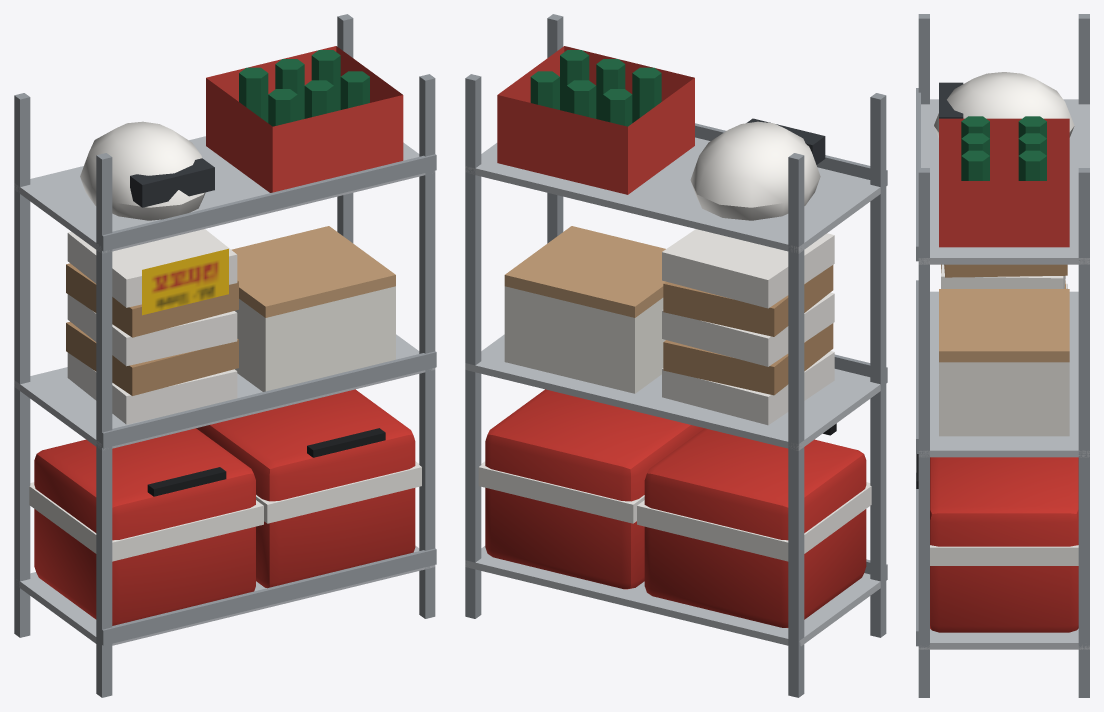
The model's file is SC_Shop_Delivery_Rack.gltf.
The picture shows the model from 3 angles, left to right: view 1: azimuth 30°, elevation 25°; view 2: azimuth 150°, elevation 25°; view 3: azimuth 270°, elevation 25°; orthographic projection. The views are drawn at different scales.
Visible parts, largest first — view 1: SC_Shop_Delivery_Rack; view 2: SC_Shop_Delivery_Rack; view 3: SC_Shop_Delivery_Rack.
Boxes of the visible parts, left/top/right/bottom form: SC_Shop_Delivery_Rack: left=14, top=14, right=436, bottom=697; SC_Shop_Delivery_Rack: left=465, top=14, right=887, bottom=697; SC_Shop_Delivery_Rack: left=916, top=14, right=1089, bottom=697.
Bounding box in the file's own units: 0.92 × 1.42 × 0.426.
Materials: 2 (2 with a texture image).
